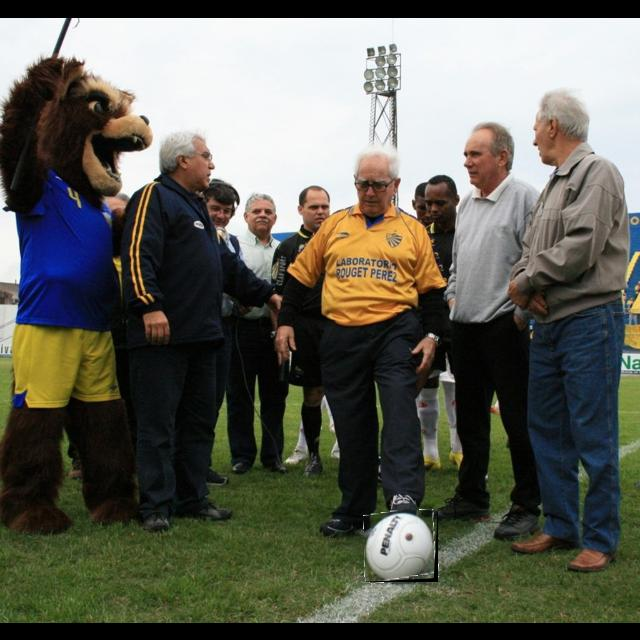Football: (364, 510, 438, 582)
